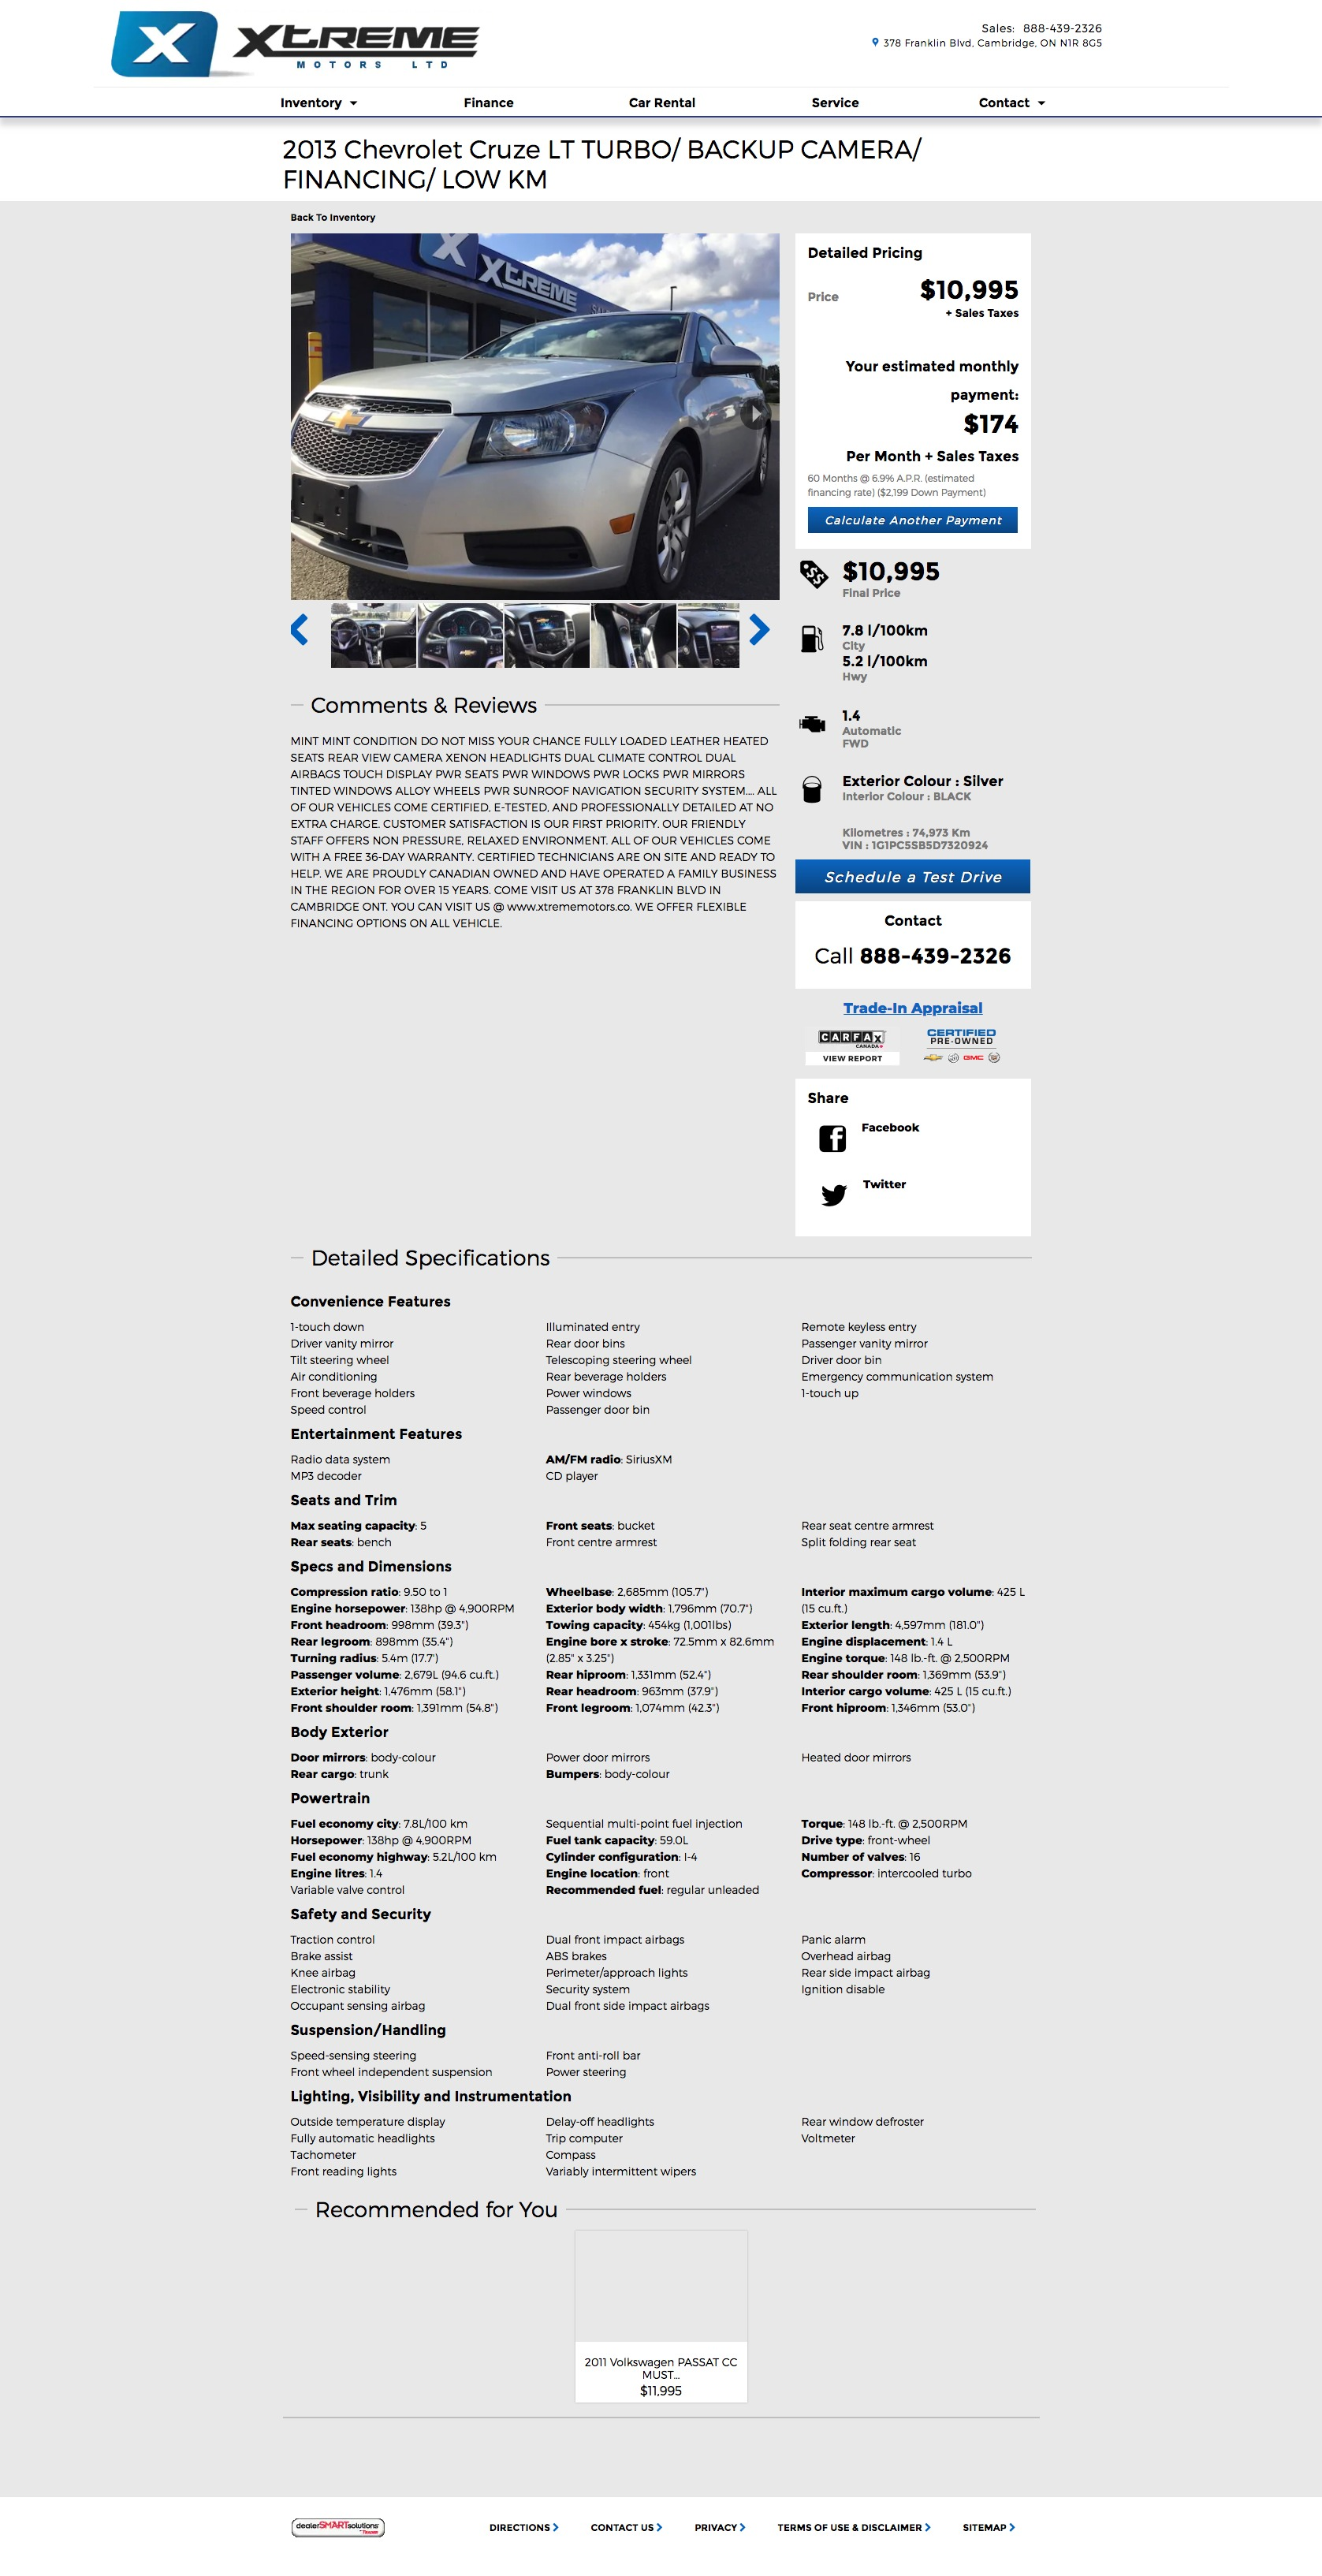car: (749, 614, 771, 647)
